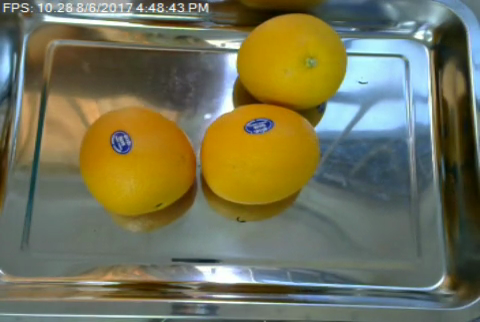Orange: (79, 105, 196, 216), (199, 102, 320, 202), (235, 13, 349, 111)
